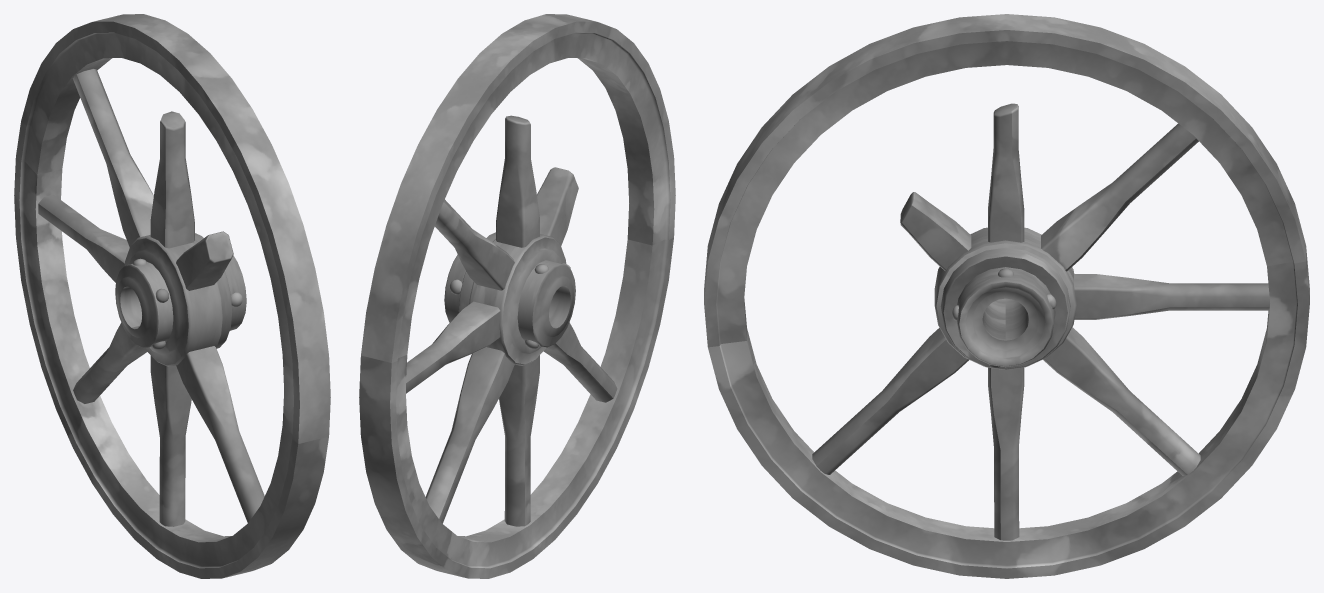
Rendered from SM_Wheel_01b.fbx.
3 views of the same model, side by side, from view 1: azimuth 30°, elevation 25°; view 2: azimuth 150°, elevation 25°; view 3: azimuth 270°, elevation 25° (orthographic). The views are drawn at different scales.
Visible parts, largest first — view 1: SM_Wheel_01b_LOD0; view 2: SM_Wheel_01b_LOD0; view 3: SM_Wheel_01b_LOD0.
Part boxes in pixels (x1,y1,x2,y2): SM_Wheel_01b_LOD0: (14,14,330,578); SM_Wheel_01b_LOD0: (359,14,675,578); SM_Wheel_01b_LOD0: (704,14,1309,578).
Size of the model in its own units: 29.54 by 156 by 156.
